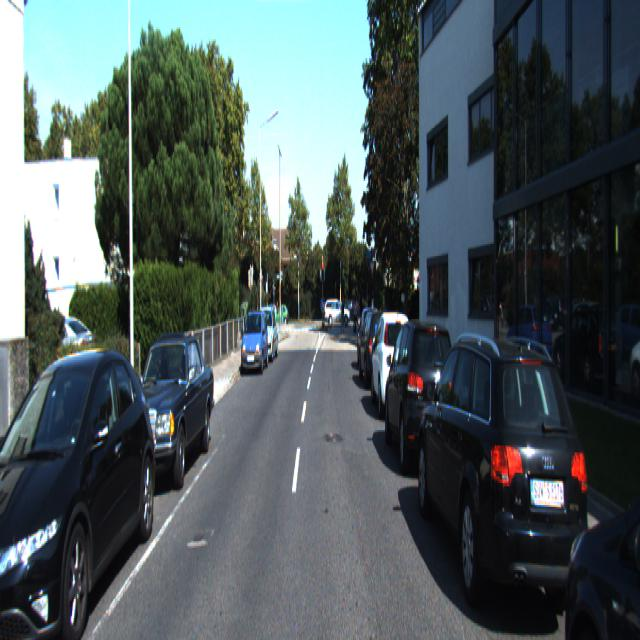Car: (415, 316, 600, 638), (0, 342, 159, 638), (564, 357, 639, 638), (117, 328, 216, 497), (383, 311, 463, 483), (370, 307, 417, 422), (358, 307, 395, 393), (240, 307, 269, 374), (356, 304, 384, 370), (252, 304, 278, 363)
